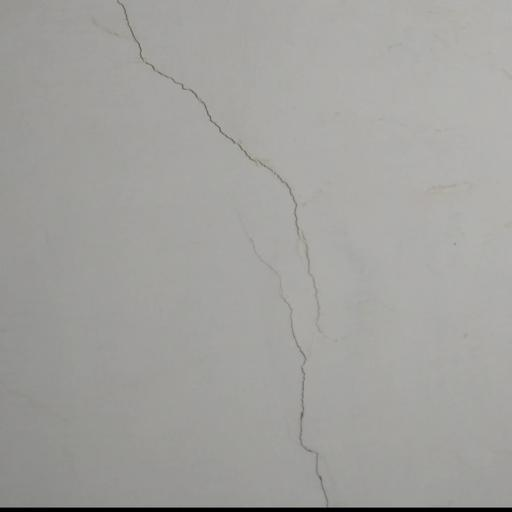minor_crack: (112, 0, 358, 512)
